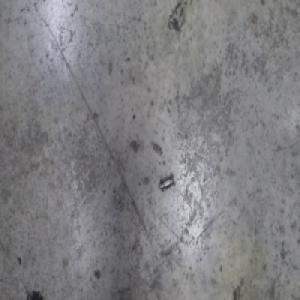Bolt: (158, 172, 175, 193)
